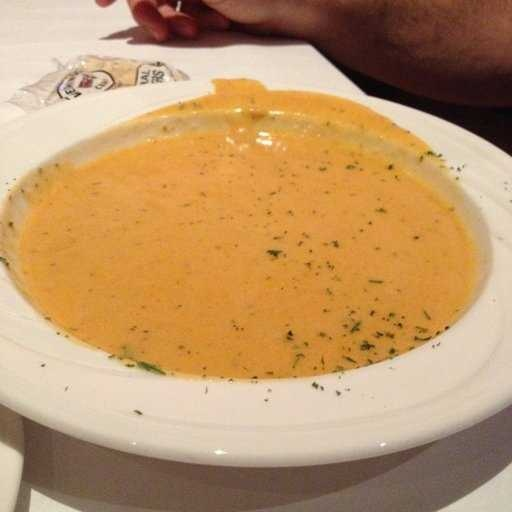soup: (3, 99, 461, 405)
